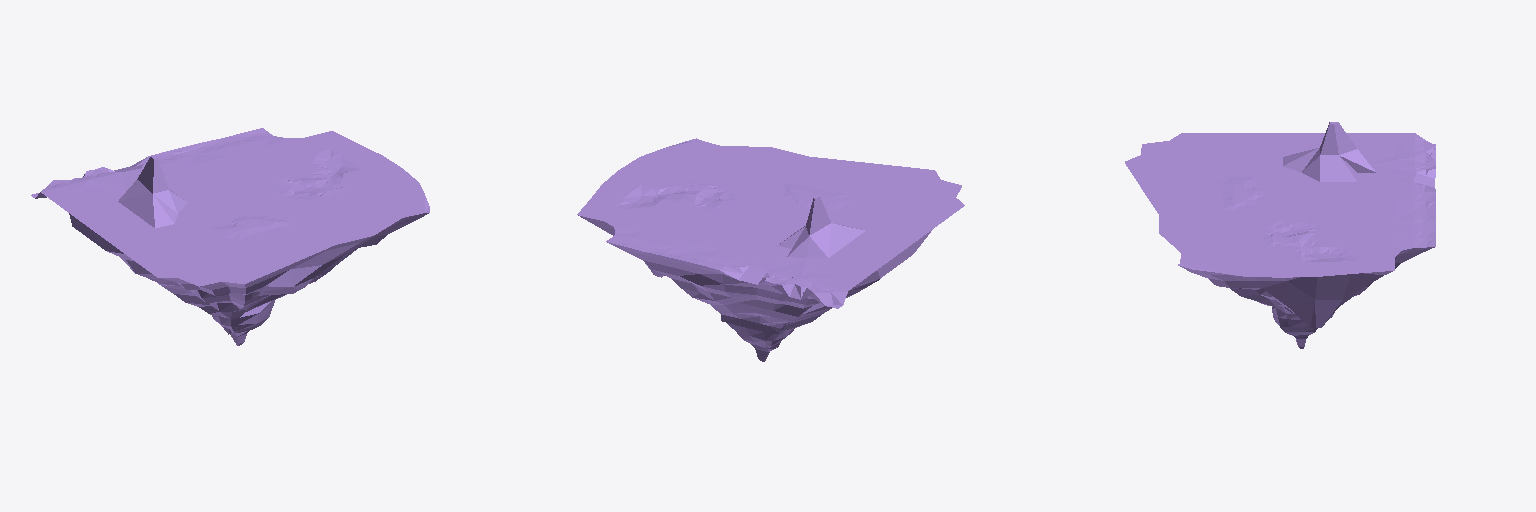
File: island.obj
The picture shows the model from 3 angles: view 1: azimuth 30°, elevation 25°; view 2: azimuth 150°, elevation 25°; view 3: azimuth 270°, elevation 25°; orthographic projection.
Visible parts, largest first — view 1: Box001; view 2: Box001; view 3: Box001.
Boxes of the visible parts, <box> form: Box001: <box>31,128,429,345</box>; Box001: <box>577,138,964,361</box>; Box001: <box>1125,122,1435,348</box>.
Bounding box in the file's own units: 723 × 450 × 658.